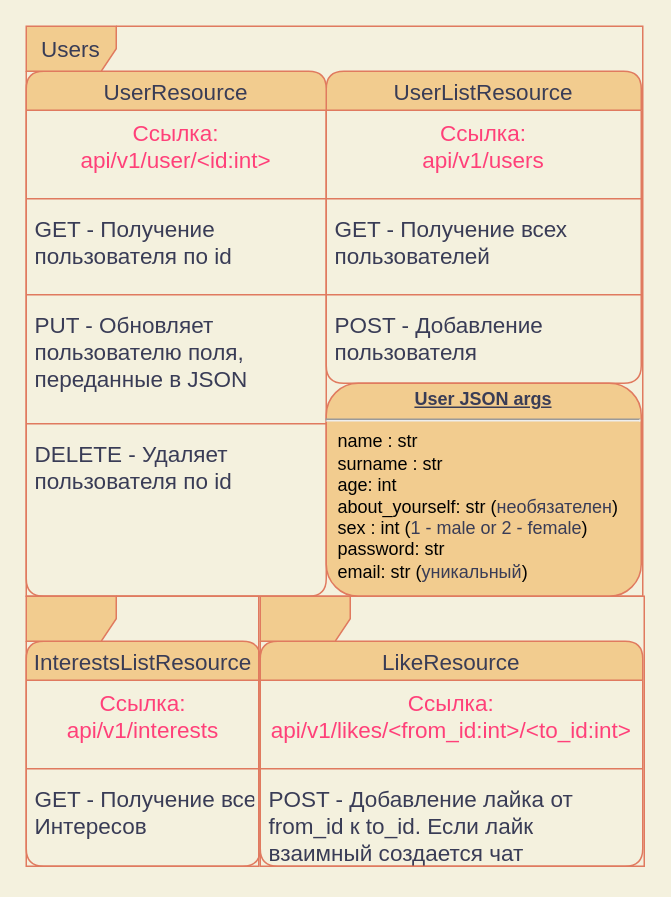
Some shapes in this 671 by 897 pixel diagram are drawn without their labels. The centre of each missing label's shape, as x and y in pixels:
"Interests" belongs at [142,730].
"Likes" belongs at [451,730].
